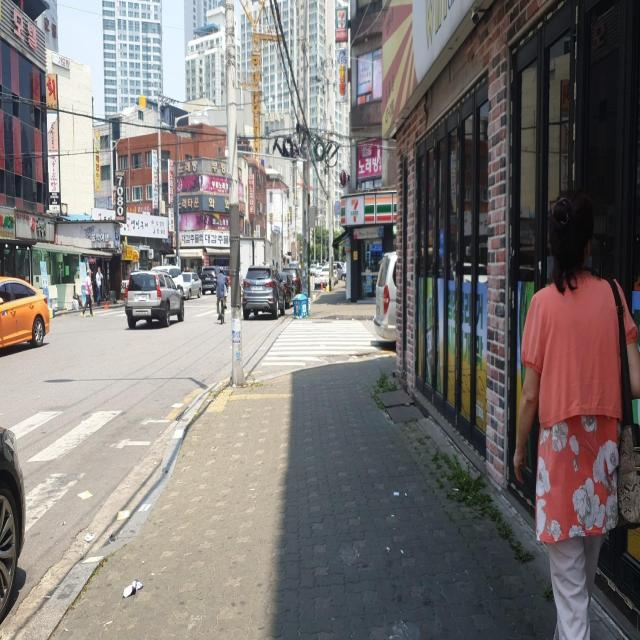횡단보도: (6, 409, 127, 524), (260, 321, 382, 366)
